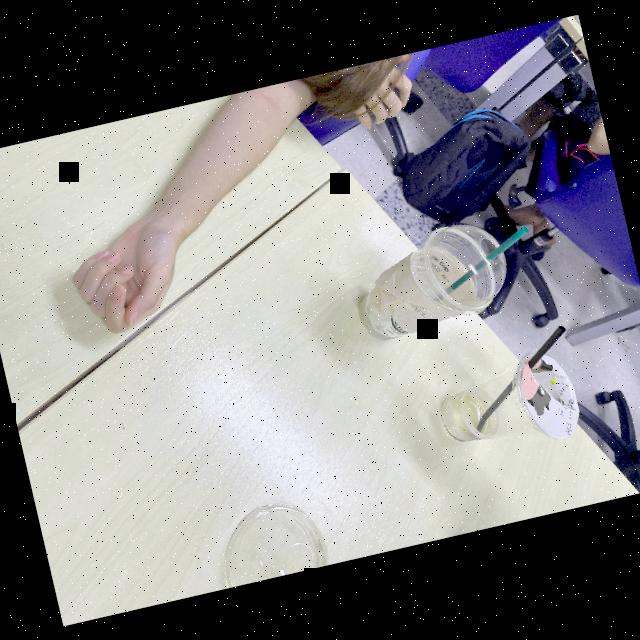plastic_cup: (337, 217, 502, 350), (432, 338, 584, 466)
plastic_cup_lid: (201, 487, 343, 590)
straw: (475, 322, 572, 433), (433, 224, 533, 302)
